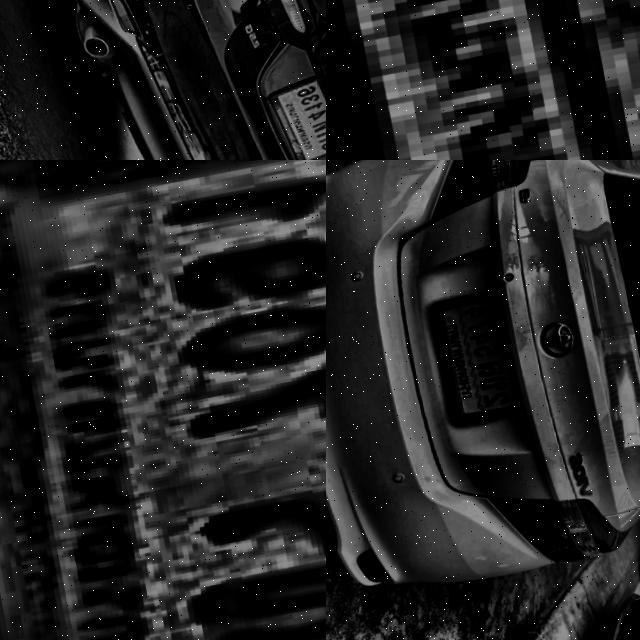license-plate: (0, 160, 326, 640), (326, 0, 640, 160), (427, 292, 525, 431), (257, 74, 326, 160)
